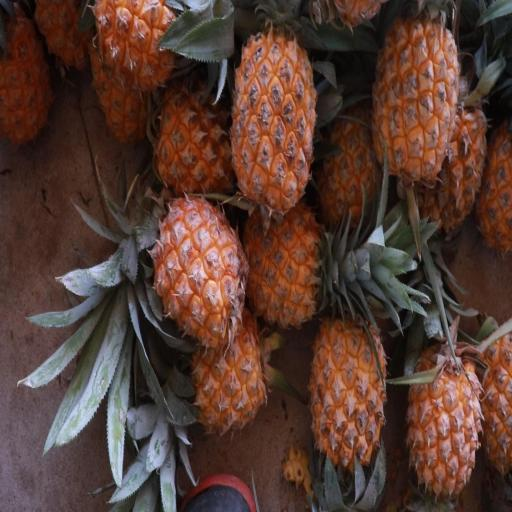Pineapple - v8 v1: (147, 186, 258, 352), (226, 19, 319, 217), (307, 301, 391, 512), (367, 6, 461, 188), (240, 188, 351, 336), (398, 318, 481, 502), (410, 80, 489, 254), (186, 295, 272, 447), (90, 0, 201, 99), (0, 0, 59, 151), (470, 300, 512, 479)
